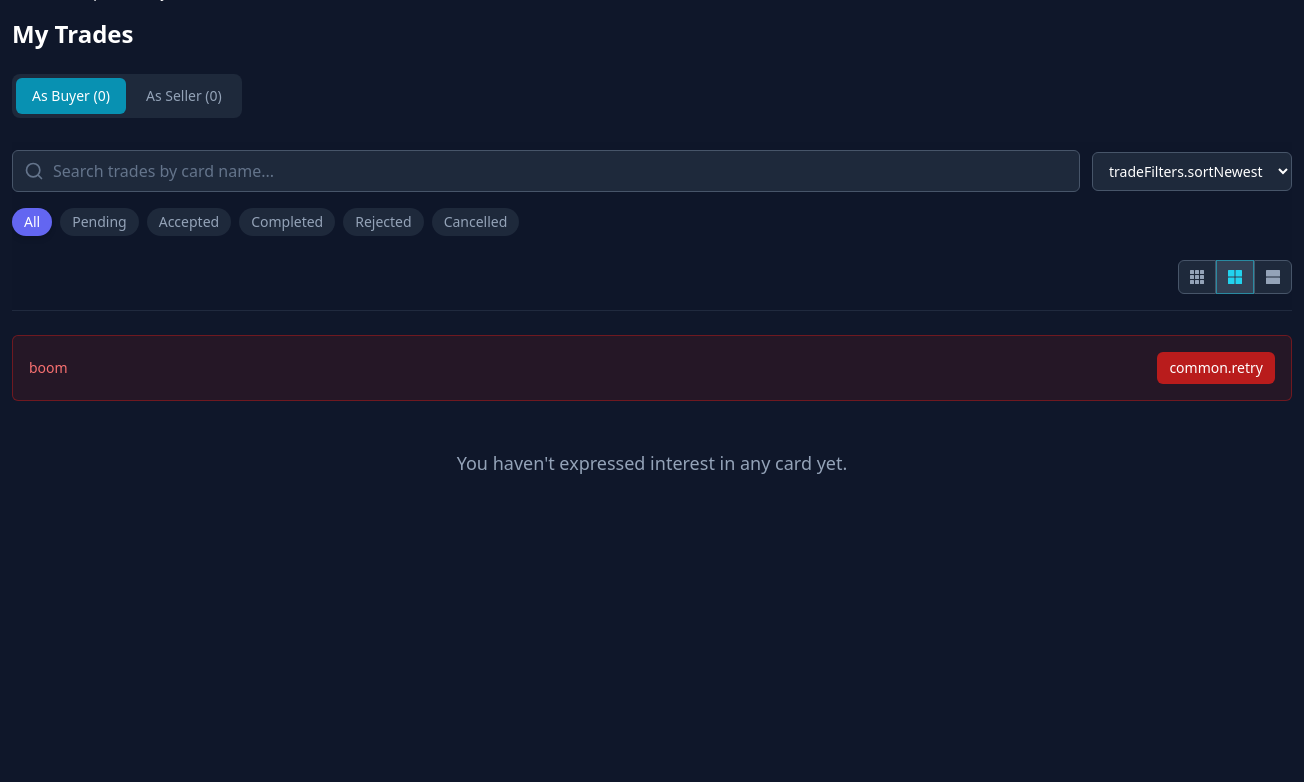
Test case: MyTrades › shows an error banner with retry when fetchMyTrades rejects
Expected: the message "boom common.retry" is shown, [12, 335, 1292, 401]
Click the button "common.retry".
click(1216, 368)  # box [1157, 352, 1275, 384]
(page scrolled)
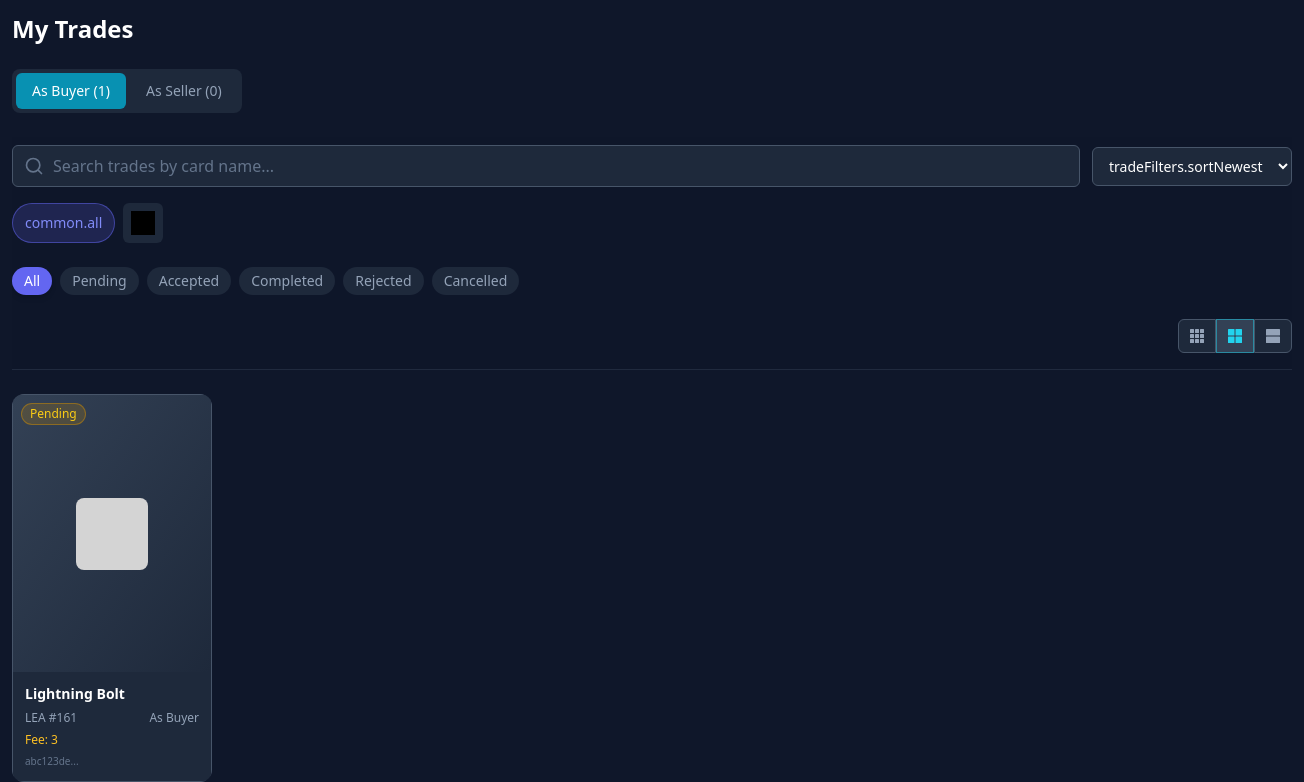
Result: the element with test id "trade-card-1" is shown at [12, 394, 212, 781]
